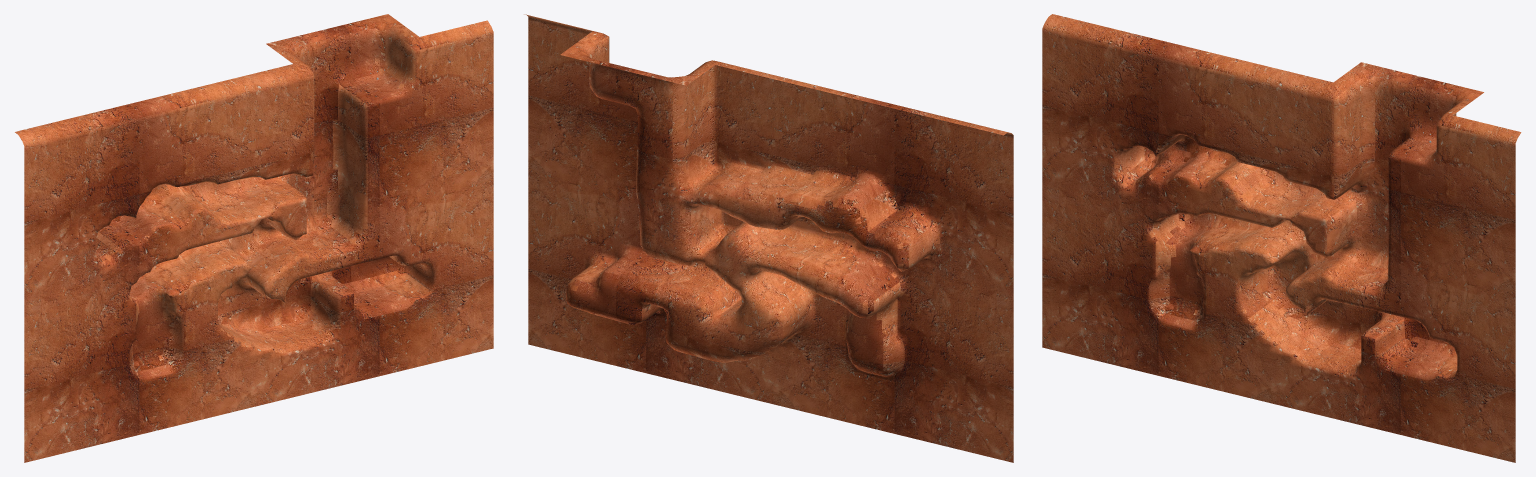
Rendered from E1M2.Display.obj.
3 renders of one model, left to right at view 1: azimuth 30°, elevation 25°; view 2: azimuth 150°, elevation 25°; view 3: azimuth 330°, elevation 25°, orthographic. The views are drawn at different scales.
Parts seen in each view (by area): view 1: World.Display; view 2: World.Display; view 3: World.Display.
Boxes of the visible parts, box(x1,y1,x2,y2) form: World.Display: box(15, 14, 493, 462); World.Display: box(524, 14, 1013, 462); World.Display: box(1042, 14, 1521, 462).
Size of the model in its own units: 69 by 45.5 by 9.5.
